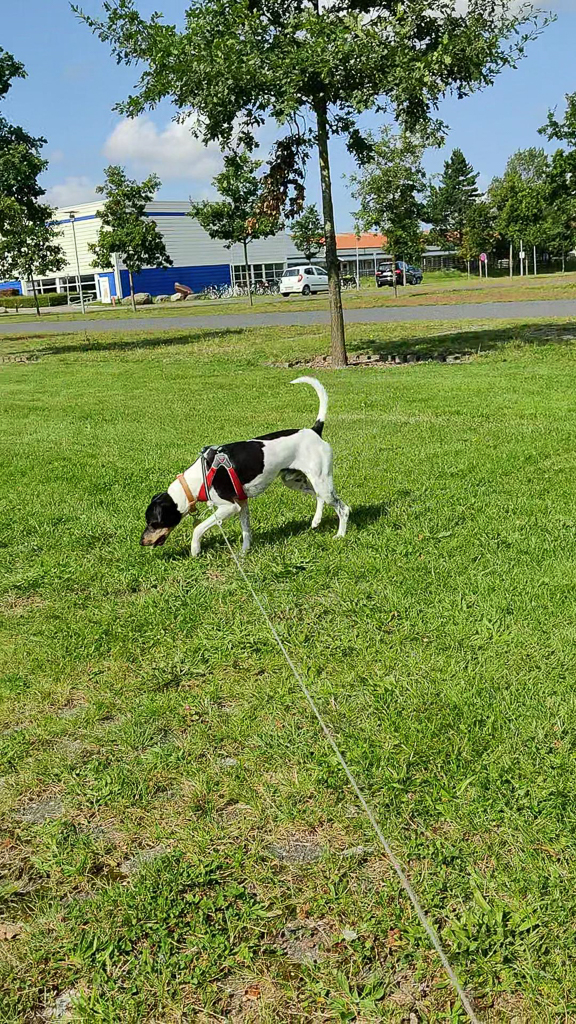Dog: (131, 367, 361, 564)
